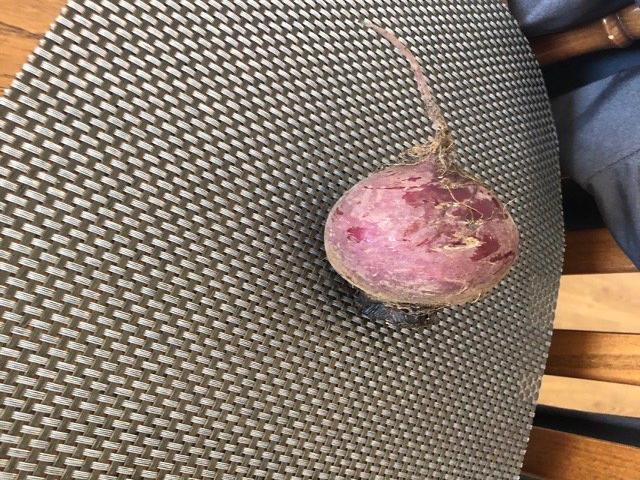beet: (325, 26, 521, 331)
